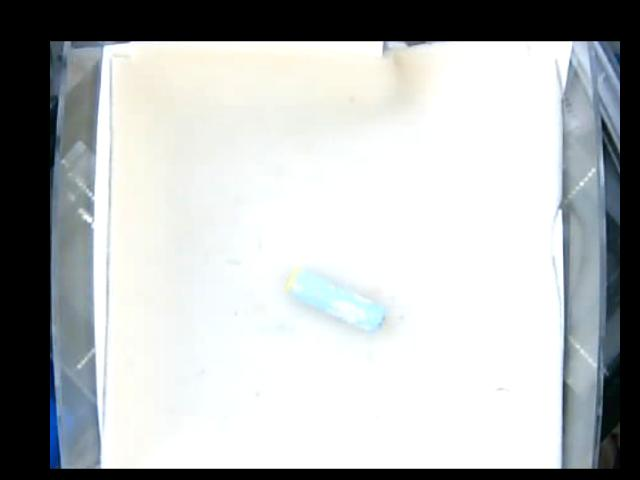Battery: (288, 269, 385, 332)
